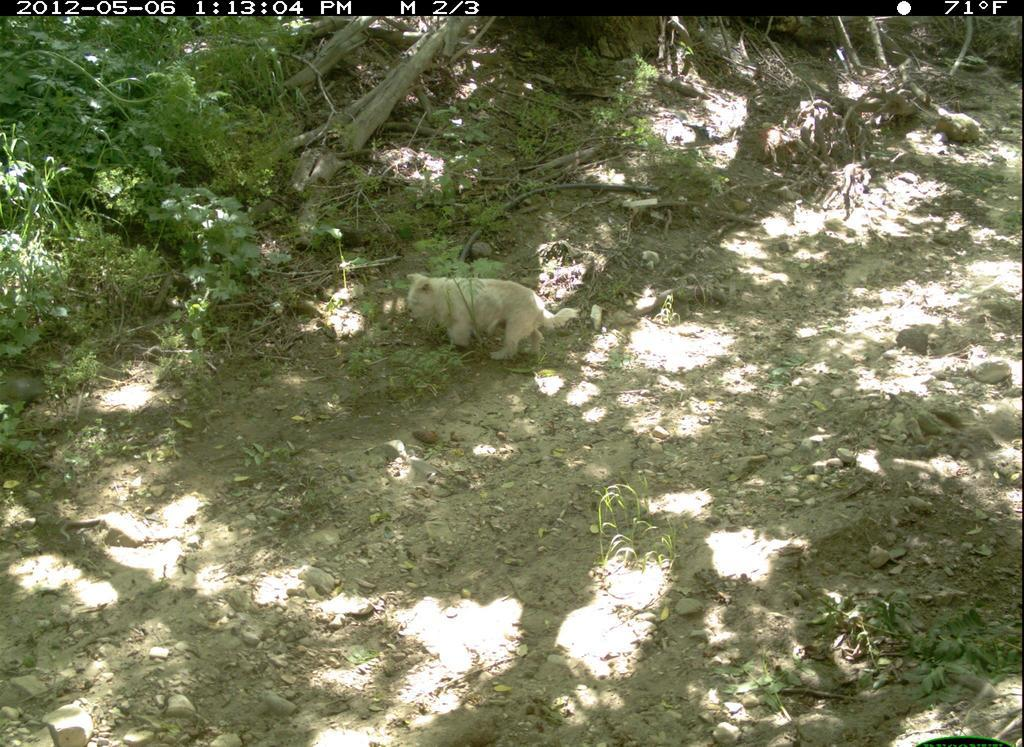dog: (396, 259, 587, 372)
